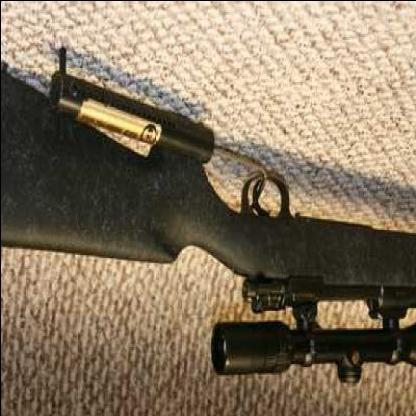rifle: (44, 82, 416, 393)
